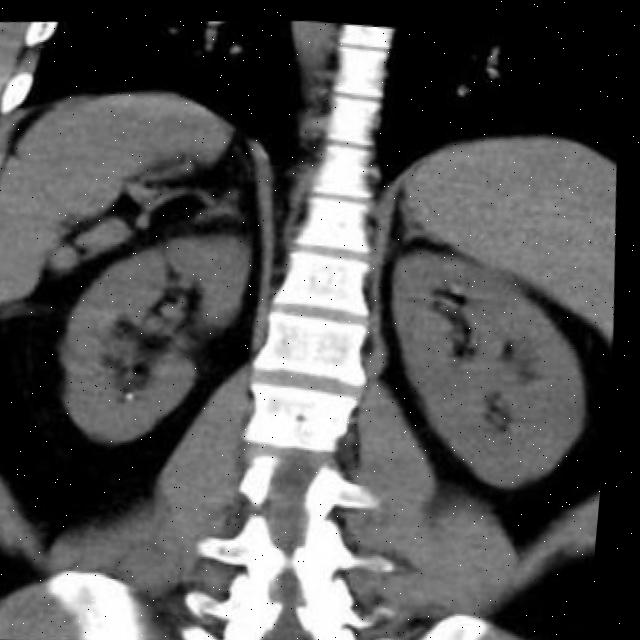Tas_Var: (132, 389, 143, 400)
